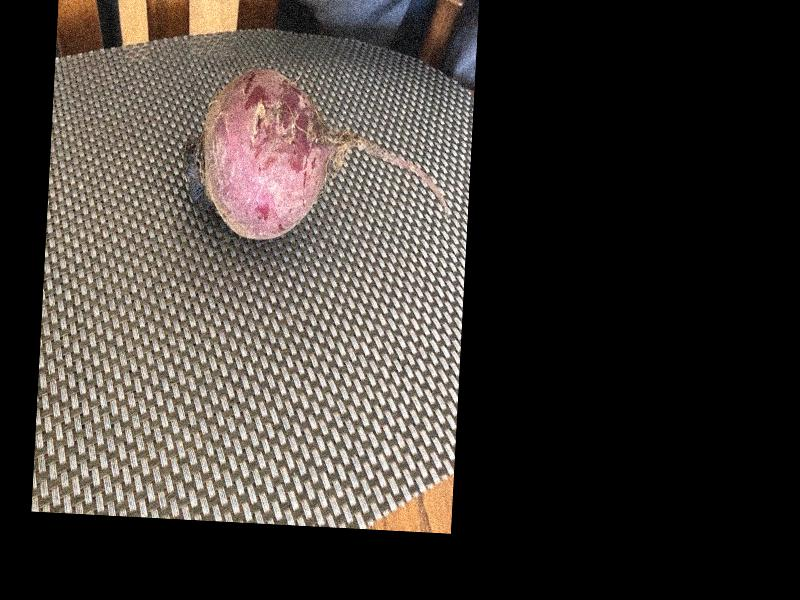Beet: (176, 62, 452, 248)
